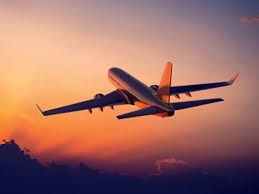maybay_dansu: (44, 64, 246, 124)
